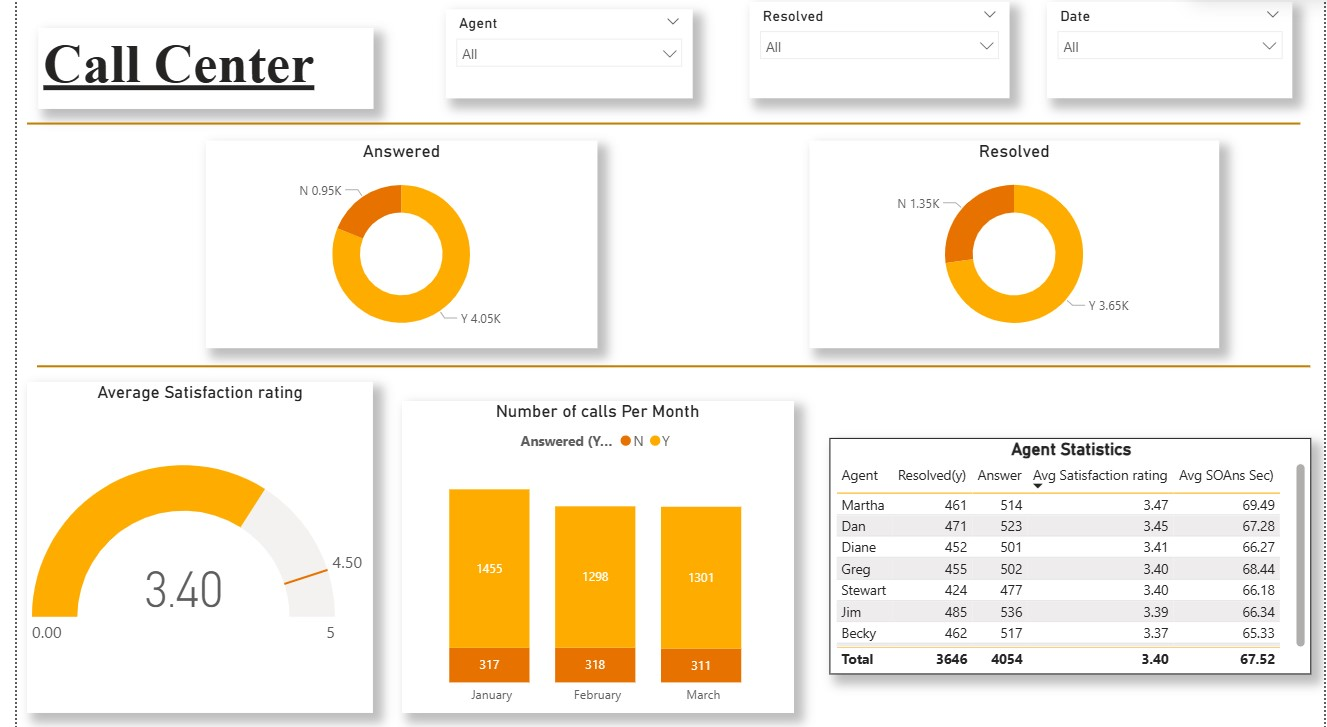

The dashboard page shown, as its layout file describes it:
{"tool":"powerbi","page":{"name":"Page 1","canvas":[1280,720],"ordinal":0},"visuals":[{"type":"slicer","fields":{"Values":["Sheet1.Agent"]},"box":[420,15.7,241.4,87.1],"z":0},{"type":"slicer","fields":{"Values":["Sheet1.Resolved"]},"box":[717.1,8.6,254.3,94.3],"z":1000},{"type":"slicer","fields":{"Values":["Sheet1.Date"]},"box":[1007.1,8.6,240,94.3],"z":2000},{"type":"gauge","title":"Average Satisfaction rating","fields":{"MaxValue":["Sum(Sheet1.Satisfaction rating)1"],"Y":["Sheet1.Satisfaction rating"]},"box":[10,380,338.6,324.3],"z":3000},{"type":"donutChart","title":"Answered ","fields":{"Category":["Sheet1.Answered (Y/N)"],"Y":["Sheet1.Answered (Y/N)"]},"box":[185.2,144.1,382.8,203.1],"z":4000},{"type":"donutChart","title":" Resolved ","fields":{"Category":["Sheet1.Resolved"],"Y":["Sheet1.Resolved"]},"box":[775.3,144.1,400.7,203.1],"z":5000},{"type":"columnChart","title":"Number of calls Per Month","fields":{"Category":["Sheet1.Date.Variation.Date Hierarchy.Month"],"Y":["Sheet1.Answered (Y/N)"],"Series":["Sheet1.Answered (Y/N)"]},"box":[377.1,398.6,382.9,305.7],"z":7000},{"type":"tableEx","title":"Agent Statistics","fields":{"Values":["Sheet1.Agent","Sheet1.Resolved(y)","Sheet1.Answer","Sheet1.Satisfaction rating","Sheet1.Speed of answer in seconds"]},"box":[794.3,435.7,471.4,231.4],"z":8000},{"type":"textbox","box":[20.6,34.3,328,79.6],"z":9000},{"type":"shape","box":[10,102.9,1245.7,50],"z":10000},{"type":"shape","box":[20,321.4,1245.7,87.1],"z":11000}]}

Visuals, with their boxes in screenshot pixels (x1, y1, x2, y2), scaled from the page's 1280x720 canvas onto the 1327x727 screenshot:
slicer - Sheet1.Agent: bbox=(435, 16, 686, 104)
slicer - Sheet1.Resolved: bbox=(743, 9, 1007, 104)
slicer - Sheet1.Date: bbox=(1044, 9, 1293, 104)
"Average Satisfaction rating" gauge: bbox=(10, 384, 361, 711)
"Answered " donutChart: bbox=(192, 146, 589, 351)
" Resolved " donutChart: bbox=(804, 146, 1219, 351)
"Number of calls Per Month" columnChart: bbox=(391, 402, 788, 711)
"Agent Statistics" tableEx: bbox=(823, 440, 1312, 674)
textbox: bbox=(21, 35, 361, 115)
shape: bbox=(10, 104, 1302, 154)
shape: bbox=(21, 325, 1312, 412)
